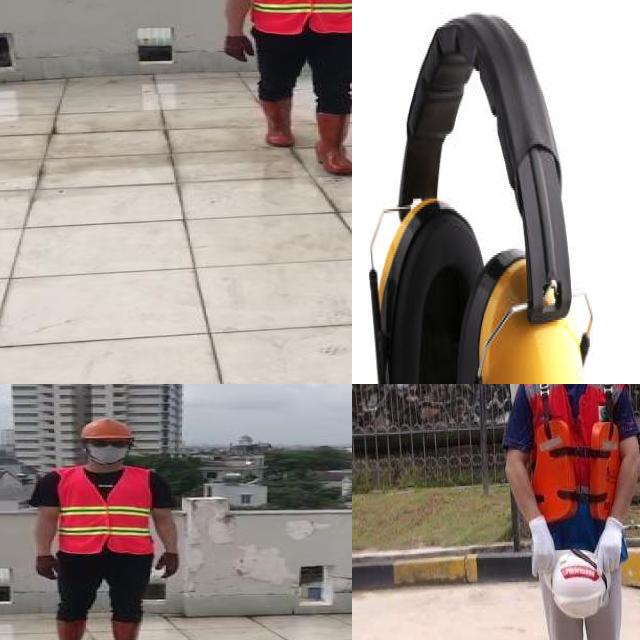Ear-protection: (356, 0, 599, 384)
boots: (313, 110, 352, 176), (258, 98, 296, 148), (52, 617, 87, 640), (112, 619, 150, 640)
face_mask: (86, 435, 134, 463)
glasses: (85, 437, 133, 451)
hand_glove: (224, 32, 254, 61), (156, 551, 178, 579), (36, 555, 59, 580)
head_helmet: (78, 416, 135, 439)
person: (481, 384, 640, 640), (25, 419, 180, 640), (212, 0, 352, 184)
vest: (518, 384, 628, 559), (60, 468, 154, 555), (250, 0, 352, 34)
